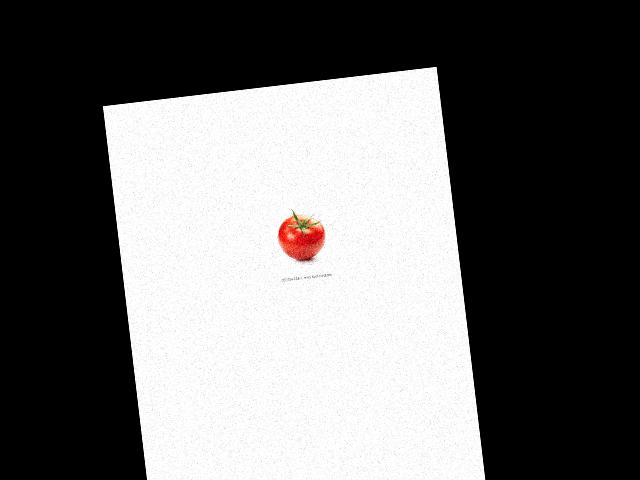tomato: (275, 212, 327, 262)
